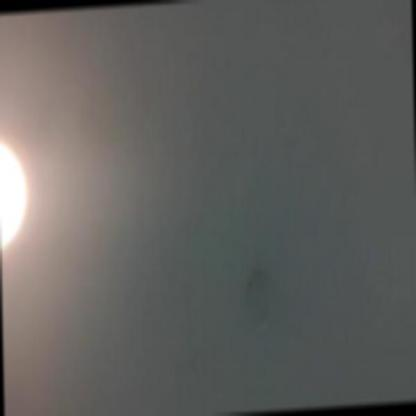light_on: (0, 122, 34, 270)
